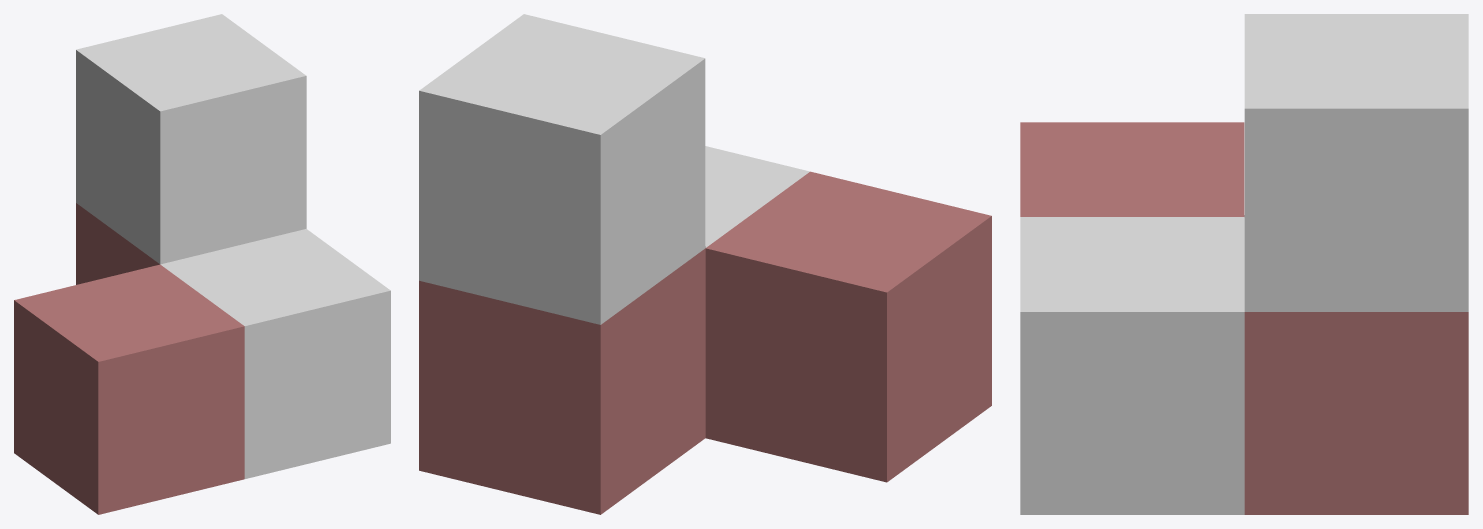
Rendered from piece1.fbx.
The picture shows the model from 3 angles, left to right: view 1: azimuth 30°, elevation 25°; view 2: azimuth 150°, elevation 25°; view 3: azimuth 270°, elevation 25°; orthographic projection. The views are drawn at different scales.
Visible parts, largest first — view 1: Shape_IndexedFaceSet.001; view 2: Shape_IndexedFaceSet.001; view 3: Shape_IndexedFaceSet.001.
Boxes of the visible parts, x1,y1,x2,y2 form: Shape_IndexedFaceSet.001: (14, 14, 390, 514); Shape_IndexedFaceSet.001: (419, 14, 991, 514); Shape_IndexedFaceSet.001: (1020, 14, 1468, 514).
Bounding box in the file's own units: 200 × 200 × 200.
